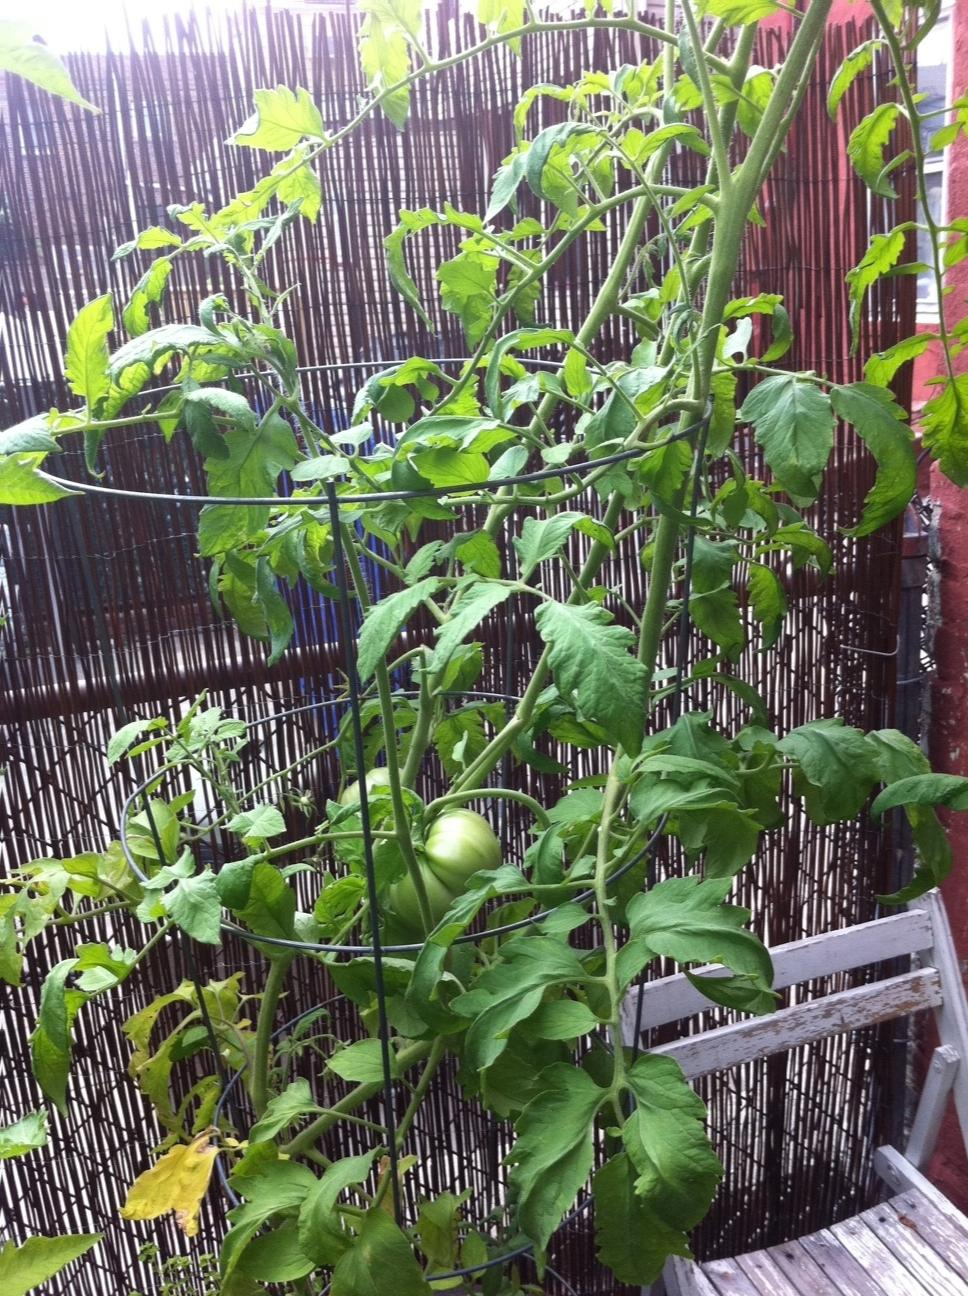Tomato leaf: (520, 585, 652, 740), (728, 372, 835, 533), (178, 414, 282, 570), (352, 567, 456, 687), (620, 1101, 714, 1233), (629, 889, 769, 976), (501, 1085, 595, 1184)
